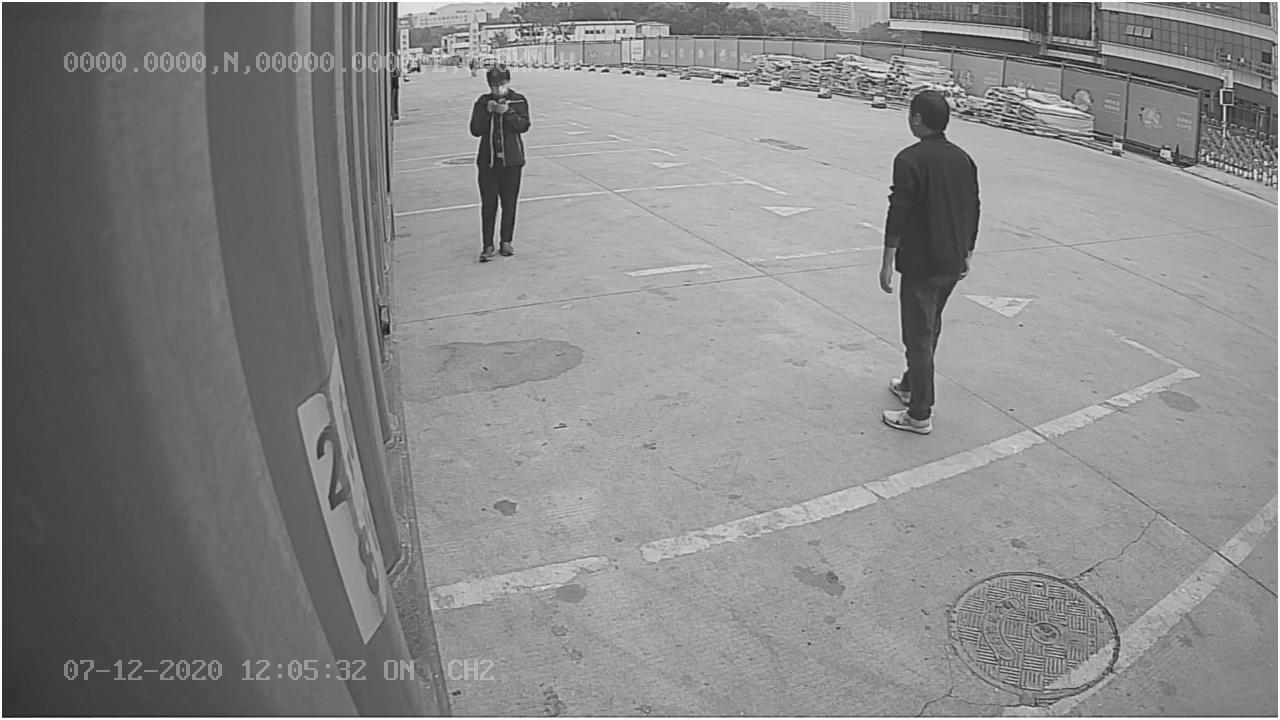person: (874, 90, 987, 434)
